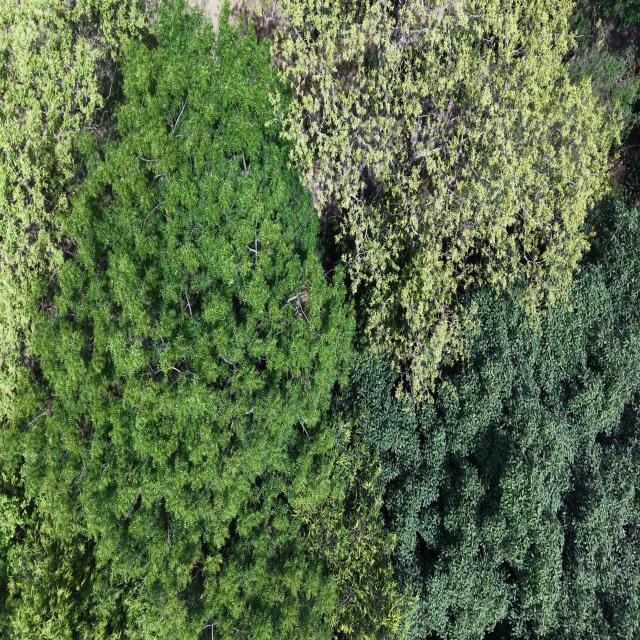DRY_AREA: (191, 0, 222, 28)
VEGETATION_TREE: (0, 0, 639, 639), (3, 2, 402, 638), (21, 11, 352, 637), (276, 0, 621, 397), (354, 201, 639, 638), (0, 0, 146, 638), (0, 0, 145, 415), (0, 456, 125, 639), (565, 0, 638, 139), (602, 0, 639, 25)
